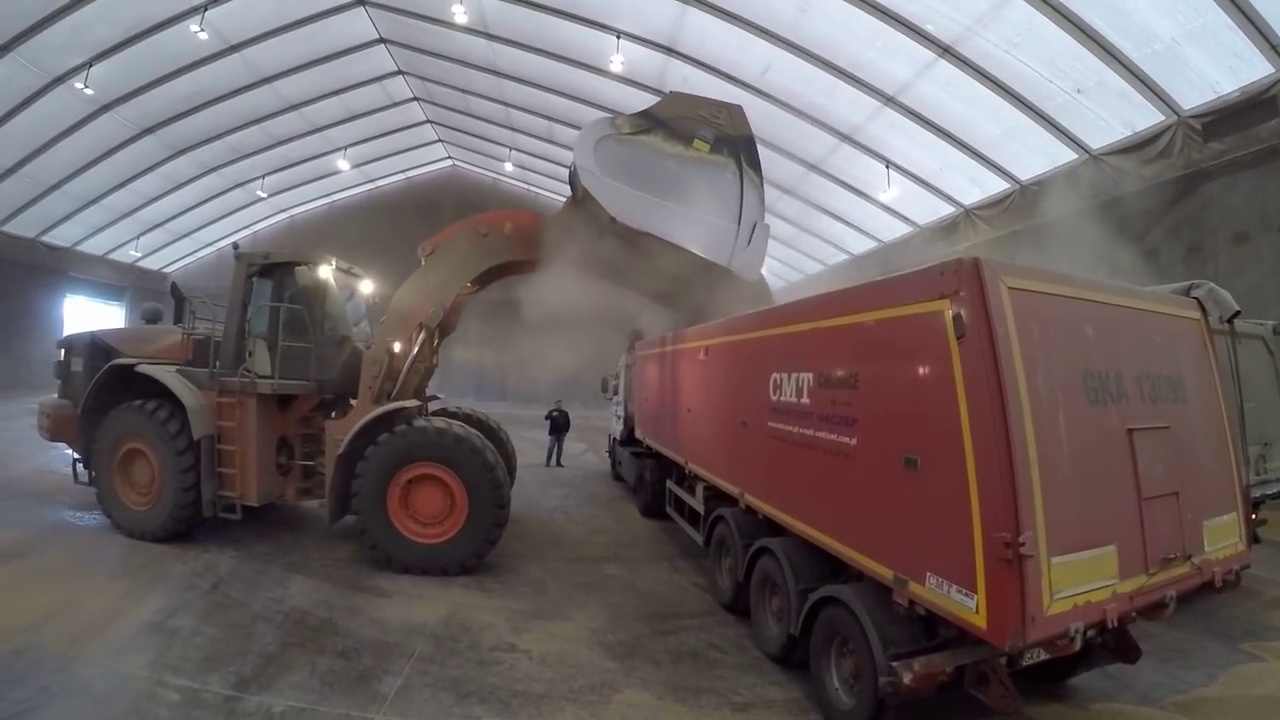person: (547, 399, 571, 469)
truck: (602, 256, 1265, 716)
wheel loader: (31, 90, 772, 578)
